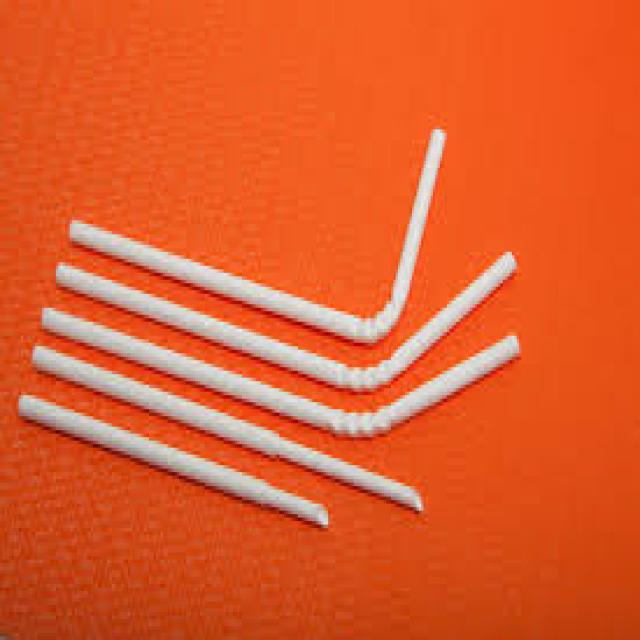straw: (70, 130, 443, 343), (56, 255, 515, 392), (33, 348, 421, 510), (41, 308, 519, 437), (19, 400, 326, 525)
